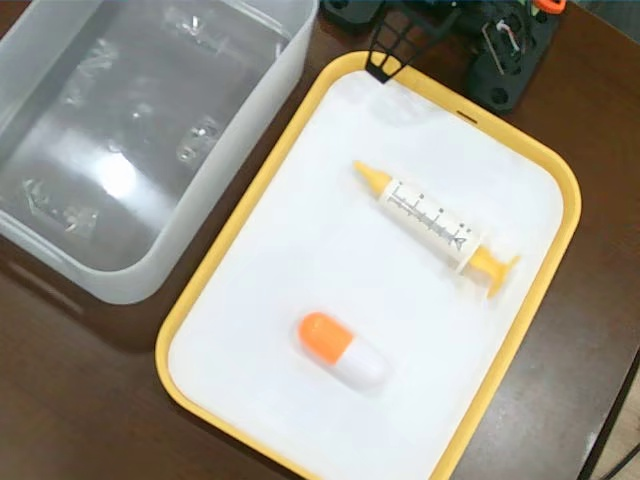pill: (292, 308, 394, 394)
syringe: (345, 158, 526, 304)
